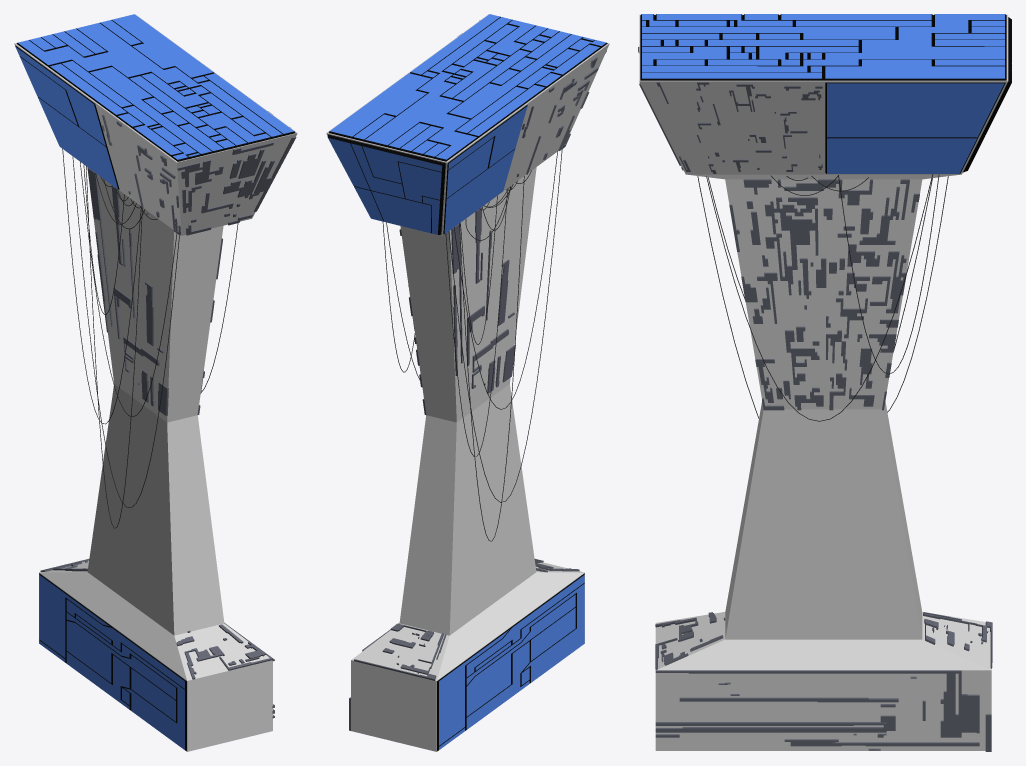
The model's file is Building_01.fbx.
3 views of the same model, side by side, from view 1: azimuth 30°, elevation 25°; view 2: azimuth 150°, elevation 25°; view 3: azimuth 270°, elevation 25° (orthographic). The views are drawn at different scales.
Visible parts, largest first — view 1: Building_01, Building_01_Windows, Building_01_Details, Building_01_Cables; view 2: Building_01, Building_01_Windows, Building_01_Details, Building_01_Cables; view 3: Building_01, Building_01_Windows, Building_01_Details, Building_01_Cables.
Boxes of the visible parts, x1=… form: Building_01: x1=14, y1=14, x2=297, y2=751; Building_01_Windows: x1=15, y1=14, x2=295, y2=750; Building_01_Details: x1=40, y1=111, x2=296, y2=718; Building_01_Cables: x1=62, y1=149, x2=238, y2=528; Building_01: x1=326, y1=14, x2=609, y2=751; Building_01_Windows: x1=327, y1=14, x2=607, y2=751; Building_01_Details: x1=349, y1=20, x2=606, y2=730; Building_01_Cables: x1=382, y1=149, x2=562, y2=541; Building_01: x1=639, y1=14, x2=1008, y2=750; Building_01_Windows: x1=640, y1=14, x2=1011, y2=173; Building_01_Details: x1=638, y1=47, x2=992, y2=751; Building_01_Cables: x1=697, y1=174, x2=948, y2=421.
Bounding box in the file's own units: 287 × 1341 × 668.
